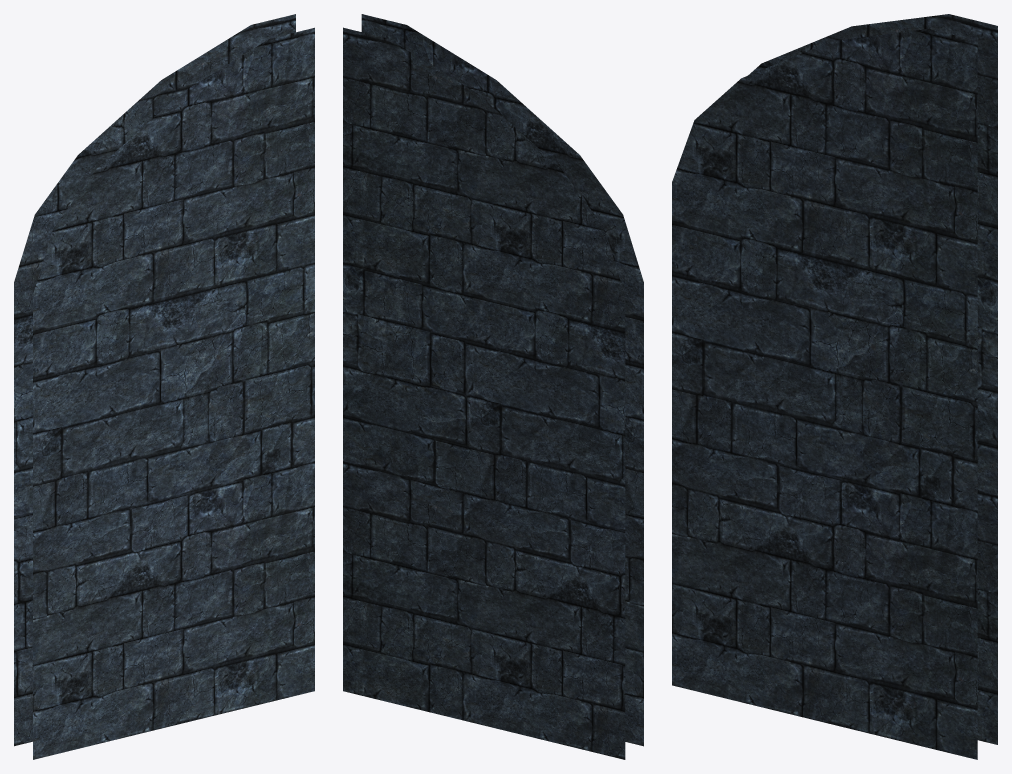
The model's file is ClosedWall_half.FBX.
3 renders of one model, left to right at view 1: azimuth 30°, elevation 25°; view 2: azimuth 150°, elevation 25°; view 3: azimuth 330°, elevation 25°, orthographic. The views are drawn at different scales.
Parts seen in each view (by area): view 1: Line02; view 2: Line02; view 3: Line02.
Part boxes in pixels (box(x1,y1,x2,y2)): Line02: box(14, 14, 314, 759); Line02: box(343, 14, 643, 759); Line02: box(672, 14, 997, 759).
Bounding box in the file's own units: 31.26 × 70.28 × 3.59.
